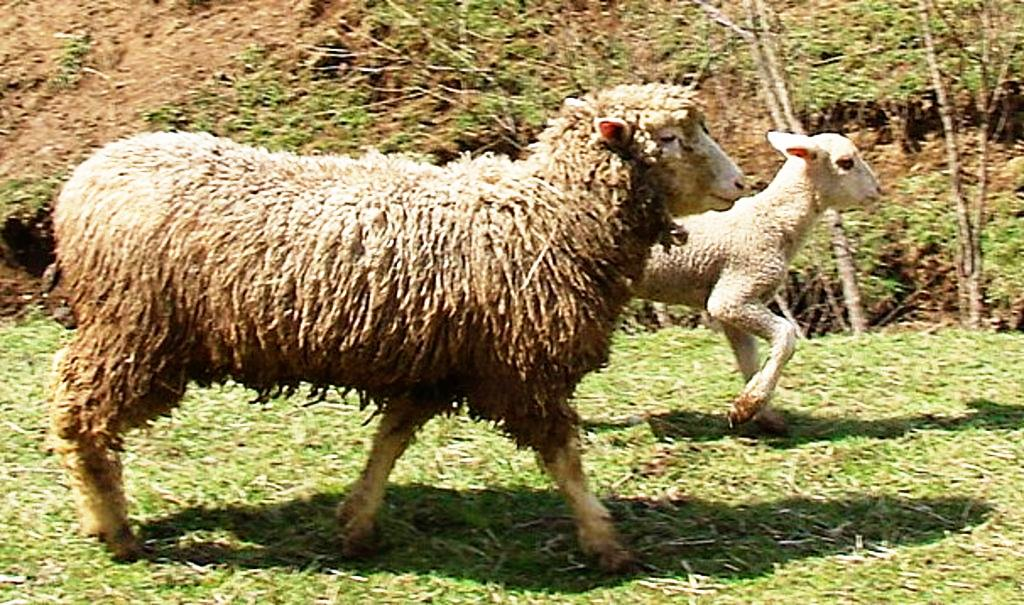Sheep: (48, 90, 744, 572), (635, 132, 882, 422)
